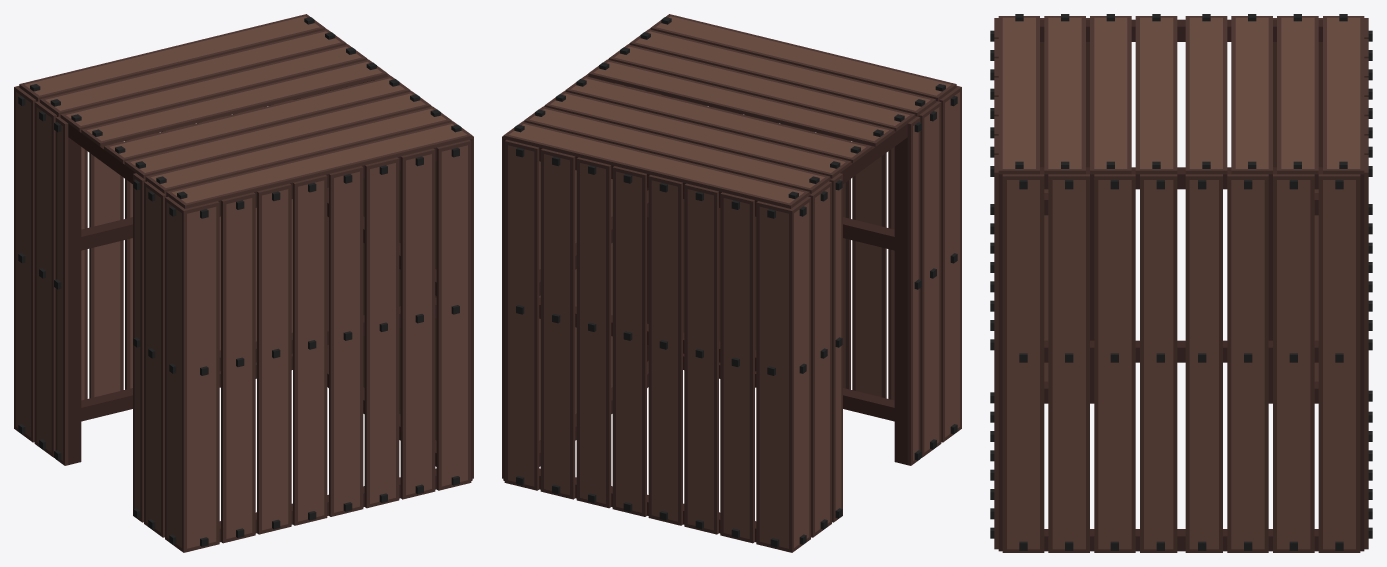
The model's file is Plants2-0-Shelter.obj.
The picture shows the model from 3 angles, left to right: view 1: azimuth 30°, elevation 25°; view 2: azimuth 150°, elevation 25°; view 3: azimuth 270°, elevation 25°; orthographic projection. The views are drawn at different scales.
Visible parts, largest first — view 1: Shelter; view 2: Shelter; view 3: Shelter.
Boxes of the visible parts, x1=… form: Shelter: x1=14, y1=14, x2=473, y2=552; Shelter: x1=502, y1=14, x2=961, y2=552; Shelter: x1=990, y1=14, x2=1372, y2=552.
Bounding box in the file's own units: 9.2 × 10.2 × 9.2.
1 material, 1 textured.
